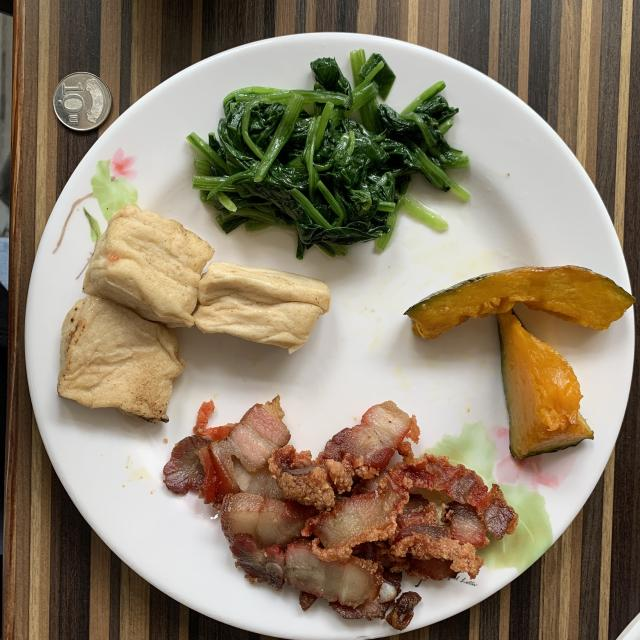coin: (54, 72, 111, 131)
creamy tofu -without sauce-: (58, 205, 330, 421)
mustard greens: (188, 50, 469, 259)
pumpkin: (405, 265, 635, 459)
red grilled pork: (164, 399, 519, 630)
